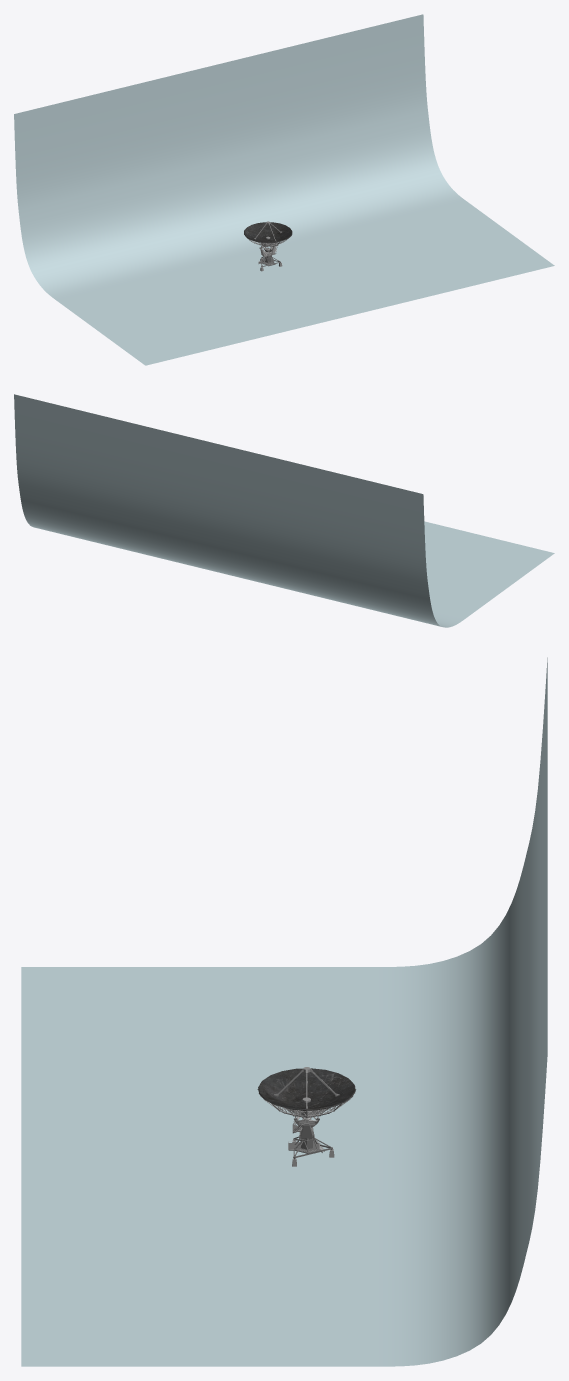
The model's file is industrial_antenna.glb.
3 renders of one model, top to bottom at view 1: azimuth 30°, elevation 25°; view 2: azimuth 150°, elevation 25°; view 3: azimuth 270°, elevation 25°, orthographic. The views are drawn at different scales.
Visible parts, largest first — view 1: pPlane1, polySurface538; view 2: pPlane1; view 3: pPlane1, polySurface538.
Boxes of the visible parts, x1,y1,x2,y2 form: pPlane1: (14,14,554,365); polySurface538: (244,222,292,243); pPlane1: (14,394,554,627); pPlane1: (21,657,547,1366); polySurface538: (258,1068,355,1110).
Size of the model in its own units: 1.18 by 0.4298 by 0.6591.
Materials: 5 (1 with a texture image).
